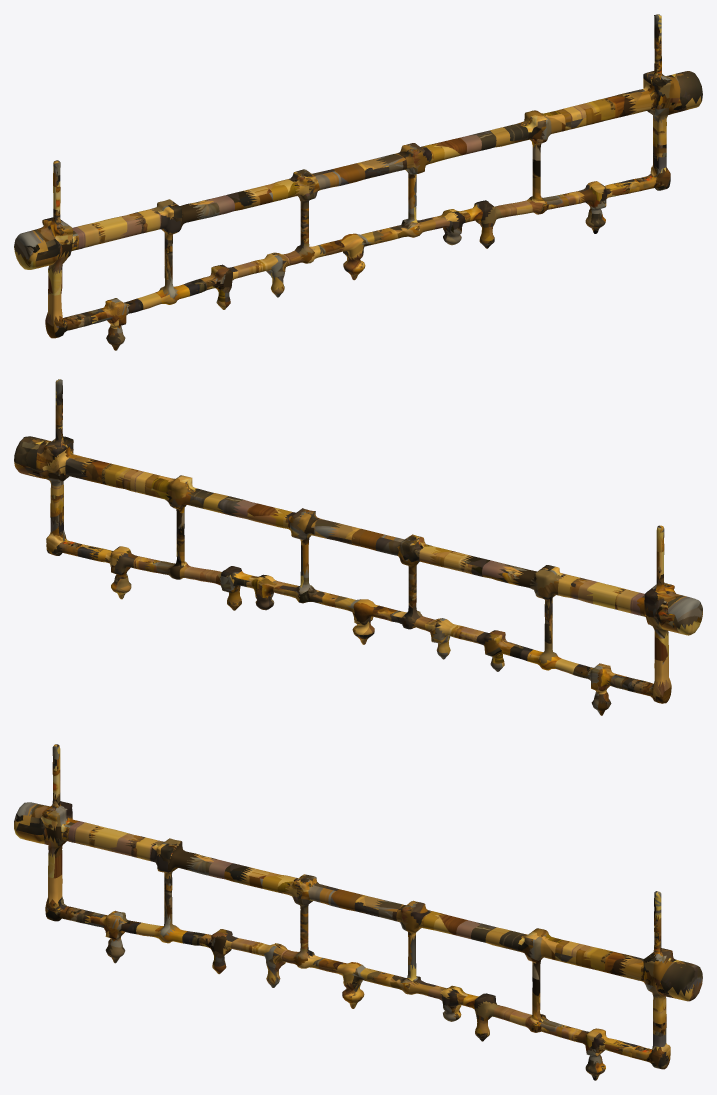
Rendered from 10WaterFeeder.fbx.
3 views of the same model, one above another, from view 1: azimuth 30°, elevation 25°; view 2: azimuth 150°, elevation 25°; view 3: azimuth 330°, elevation 25° (orthographic).
Visible parts, largest first — view 1: Mesh_0; view 2: Mesh_0; view 3: Mesh_0.
Boxes of the visible parts, <box> form: Mesh_0: <box>14,14,702,350</box>; Mesh_0: <box>14,379,702,715</box>; Mesh_0: <box>14,744,702,1080</box>.
Bounding box in the file's own units: 191 × 55.39 × 9.73.
